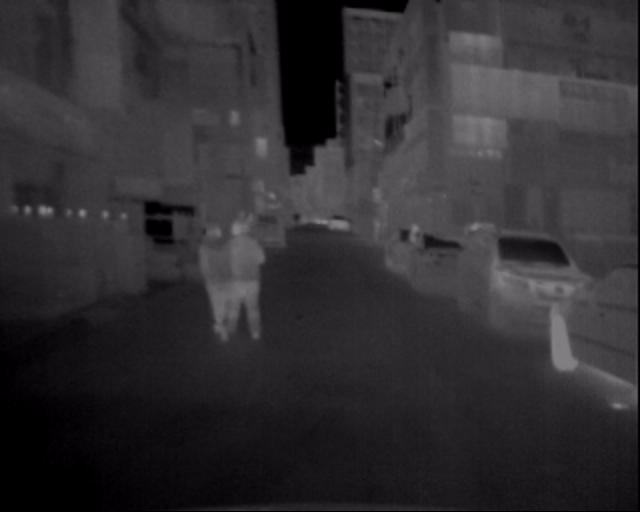person: (182, 202, 238, 360), (226, 202, 274, 361), (404, 213, 433, 268)
